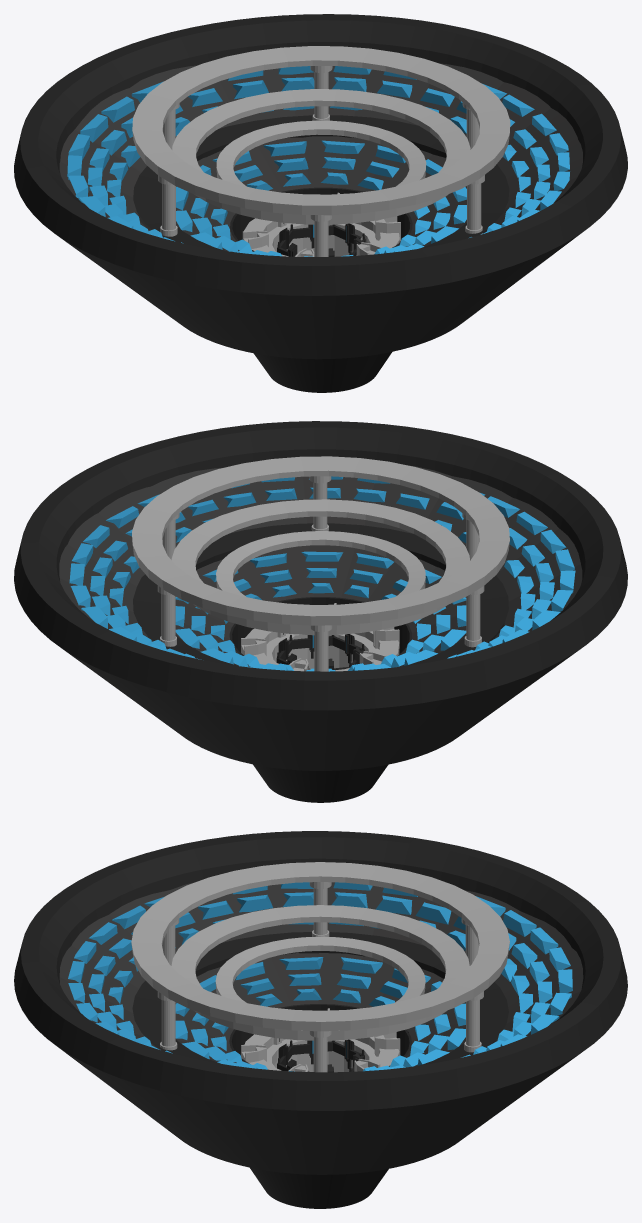
File: Arene.fbx
The picture shows the model from 3 angles, top to bottom: view 1: azimuth 30°, elevation 25°; view 2: azimuth 150°, elevation 25°; view 3: azimuth 270°, elevation 25°; orthographic projection.
Parts seen in each view (by area): view 1: group77; view 2: group77; view 3: group77.
Boxes of the visible parts, left/top/right/bottom form: group77: left=14, top=14, right=627, bottom=392; group77: left=14, top=421, right=627, bottom=802; group77: left=14, top=831, right=627, bottom=1208.
Size of the model in its own units: 20.38 by 8.93 by 20.38.
